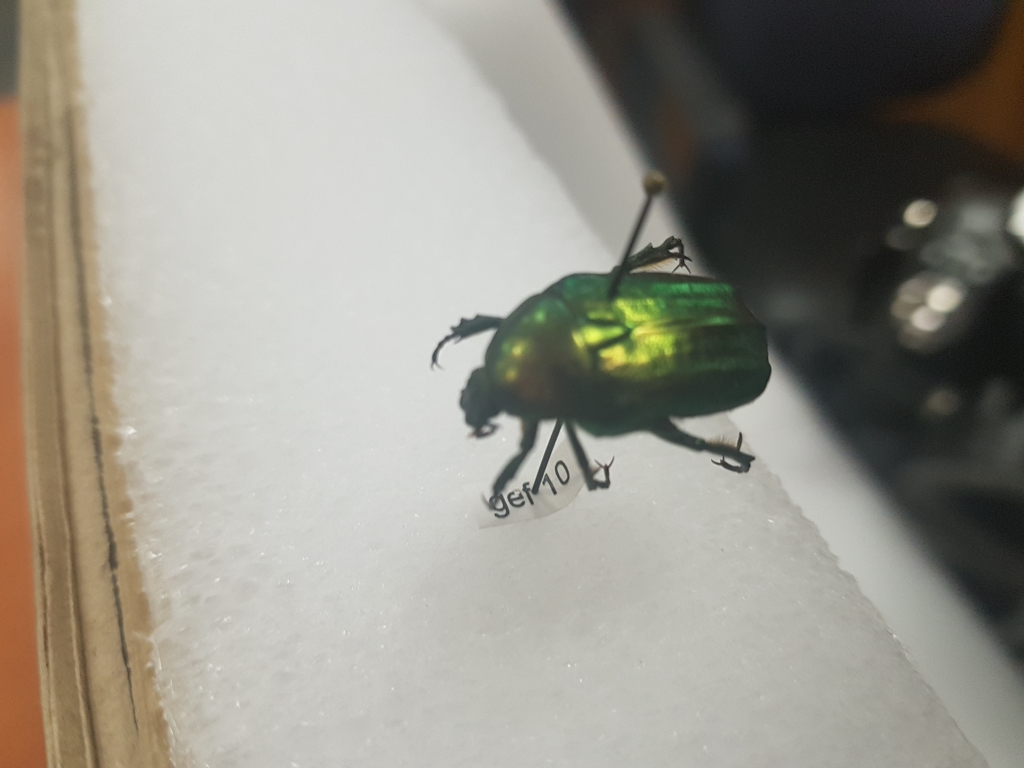Cetonia_aurata: (418, 230, 768, 518)
